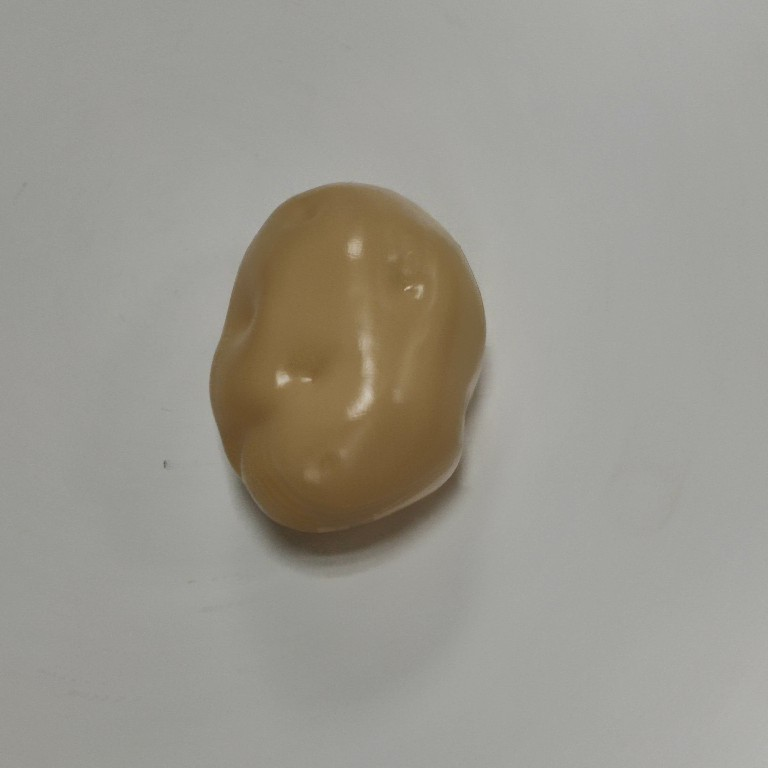fruit_potato: (203, 178, 491, 542)
